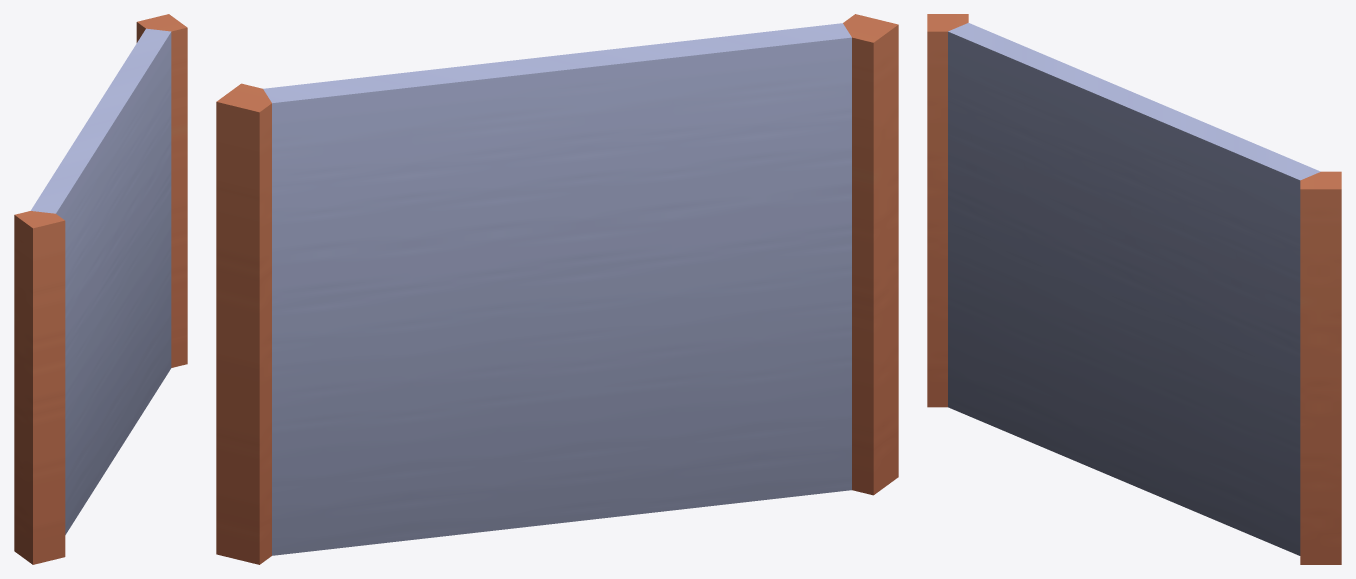
The model's file is wallDiagonal.fbx.
3 views of the same model, side by side, from view 1: azimuth 30°, elevation 25°; view 2: azimuth 150°, elevation 25°; view 3: azimuth 270°, elevation 25° (orthographic). The views are drawn at different scales.
Visible parts, largest first — view 1: wallDiagonal; view 2: wallDiagonal; view 3: wallDiagonal.
Part boxes in pixels (x1=…): wallDiagonal: x1=14, y1=14, x2=187, y2=564; wallDiagonal: x1=216, y1=14, x2=898, y2=564; wallDiagonal: x1=927, y1=14, x2=1341, y2=564.
Size of the model in its own units: 1 by 1 by 1.
